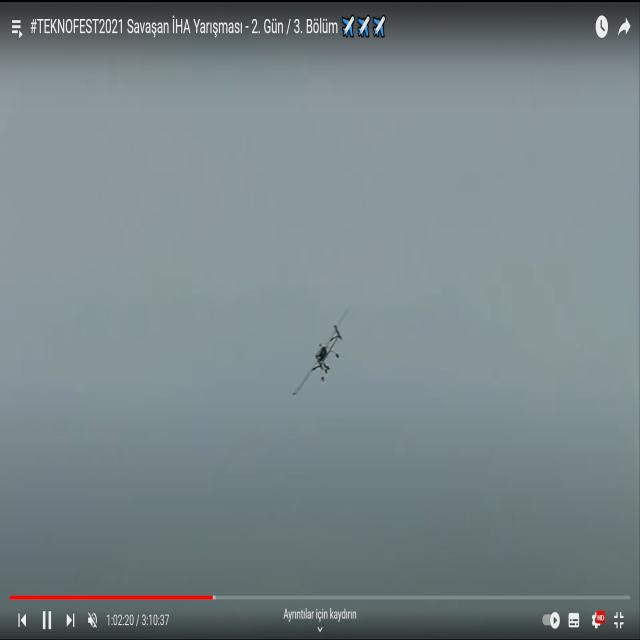iha: (291, 341, 349, 363)
